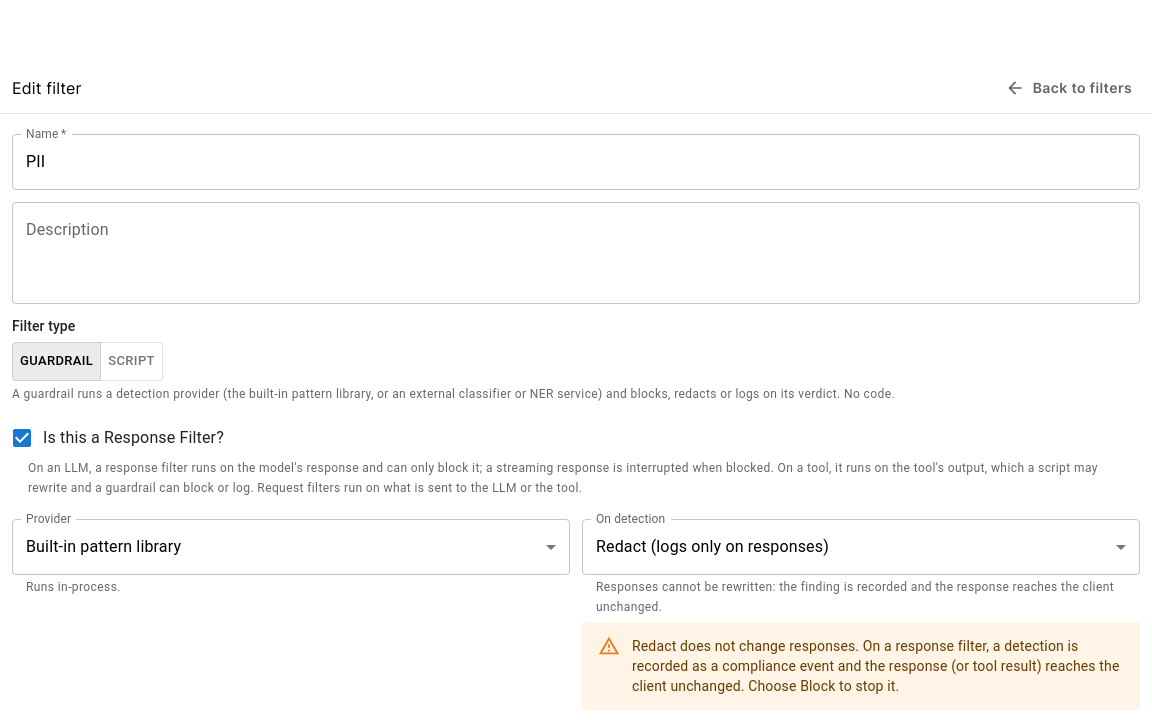
FilterForm: guardrail Redact on a response filter (#722) › labels Redact as logging only in the action menu of a response filter
The width and height of the screenshot is (1152, 720).
Press the mouse on the dropdown named "on detection" at {"x": 712, "y": 547}, box 596,537 -> 829,556
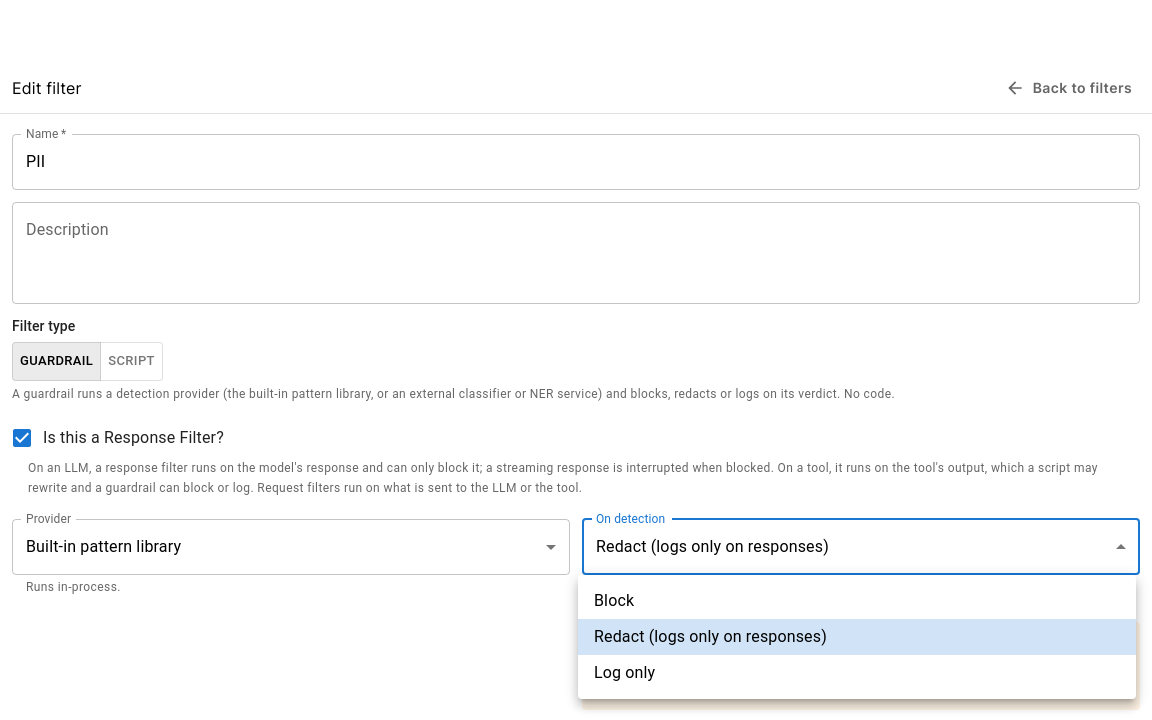
Expected: the option "Redact (logs only on responses)" is shown, 578,619 -> 1136,655
